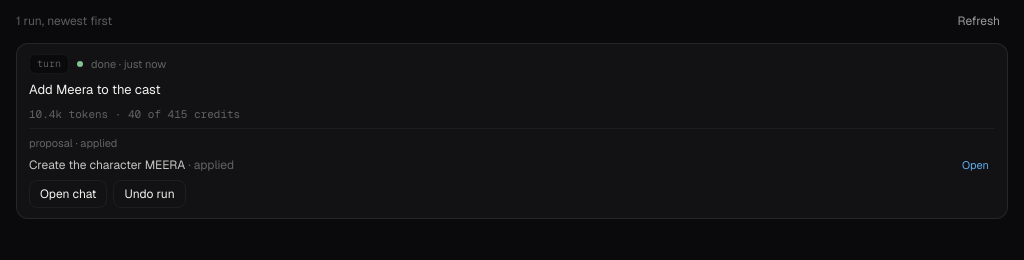
RunHistory › undoes a run, says what it put back, and reads the history again
What coordinates should you click on to do the following:
click the button "Undo run"
I would click on:
 (150, 194)
Its box is [114,180,186,208].
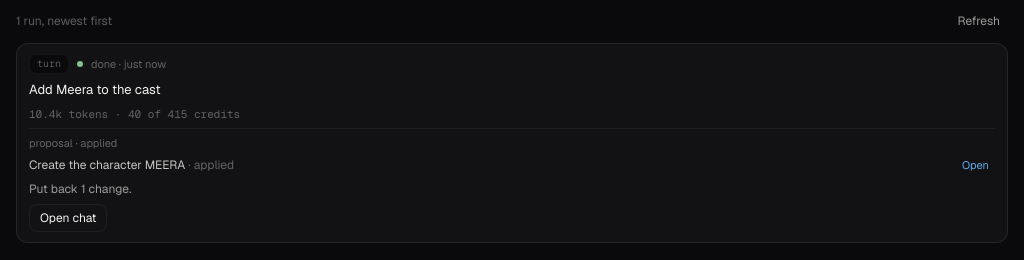
Now the message "Put back 1 change." is shown, box [29,181,131,197]
